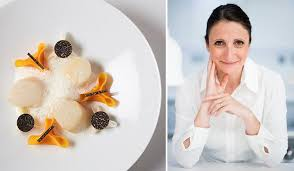middle_eastern_Female: (208, 19, 252, 75)
